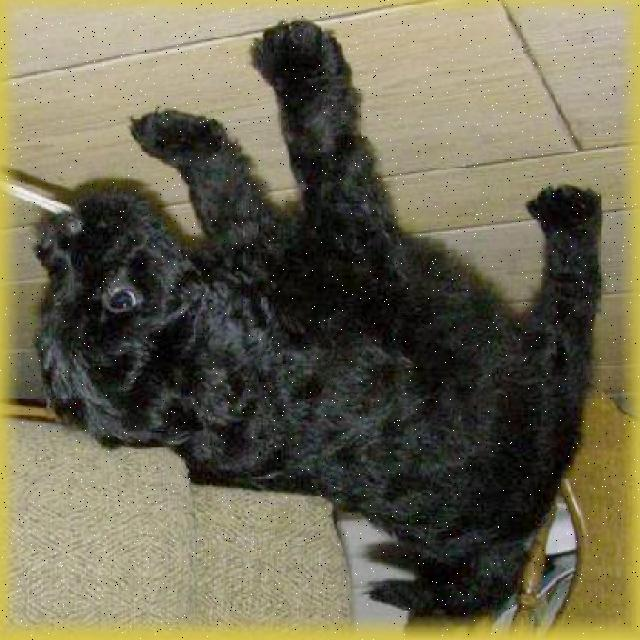Dog: (17, 164, 269, 473)
